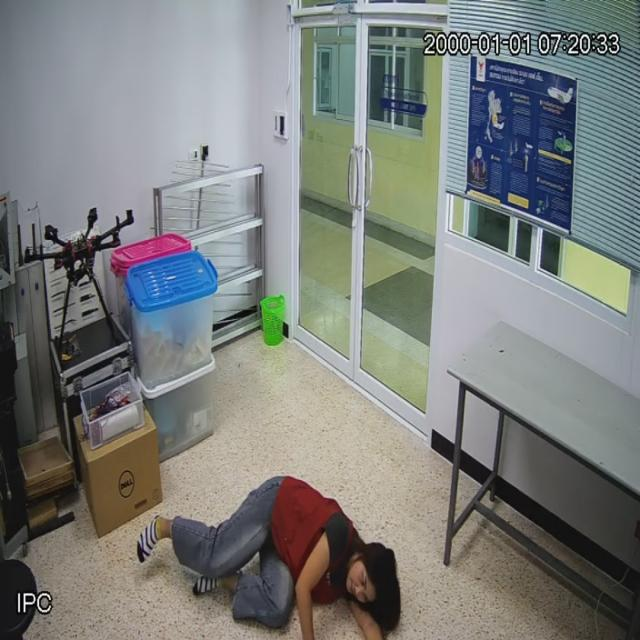fall: (173, 474, 400, 640)
